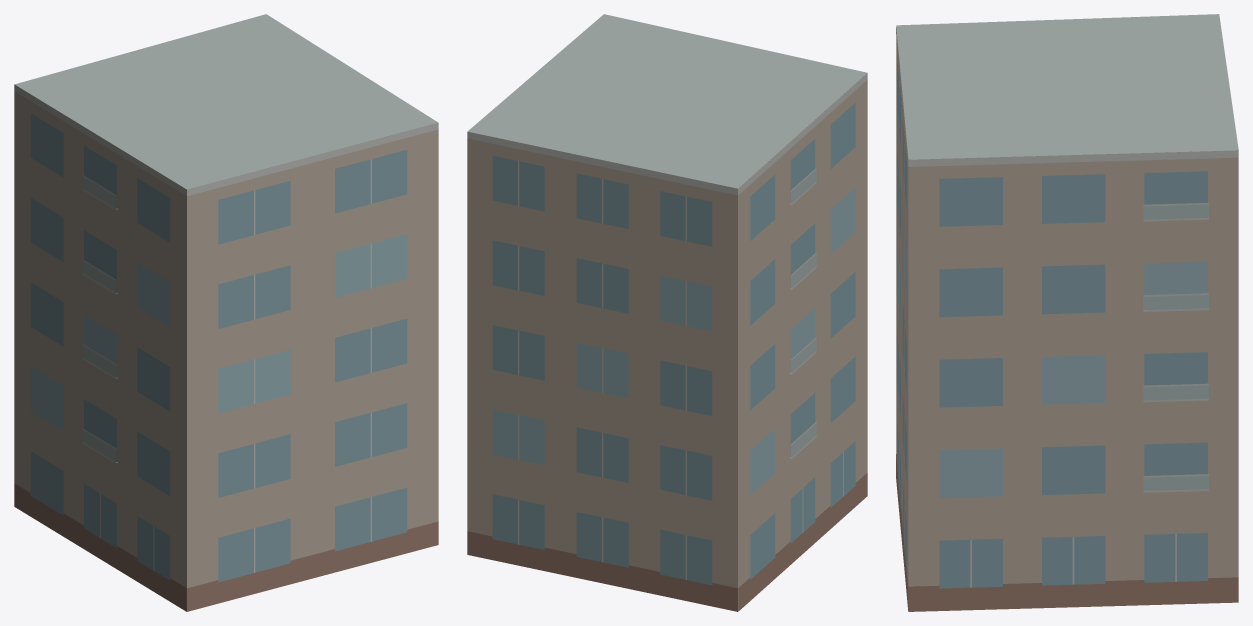
Rendered from survey-upis-33012679.glb.
3 renders of one model, left to right at view 1: azimuth 30°, elevation 25°; view 2: azimuth 150°, elevation 25°; view 3: azimuth 270°, elevation 25°, orthographic. The views are drawn at different scales.
Parts seen in each view (by area): view 1: survey-upis-33012679.tmp; view 2: survey-upis-33012679.tmp; view 3: survey-upis-33012679.tmp.
Part boxes in pixels (left/top/right/bottom): survey-upis-33012679.tmp: left=14, top=14, right=438, bottom=611; survey-upis-33012679.tmp: left=467, top=14, right=867, bottom=611; survey-upis-33012679.tmp: left=896, top=14, right=1238, bottom=611.
Size of the model in its own units: 10.52 by 15.2 by 10.45.
